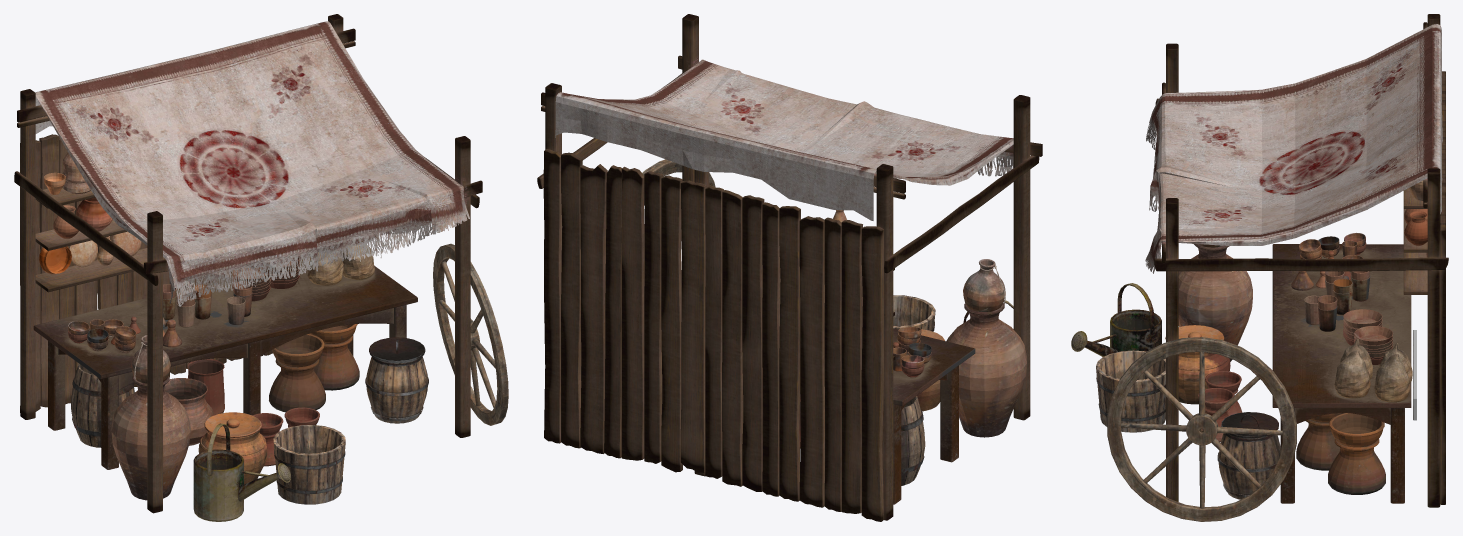
Rendered from Shop.fbx.
The picture shows the model from 3 angles, left to right: view 1: azimuth 30°, elevation 25°; view 2: azimuth 150°, elevation 25°; view 3: azimuth 270°, elevation 25°; orthographic projection. The views are drawn at different scales.
Parts seen in each view (by area): view 1: XI_FS_Shop.Shape; view 2: XI_FS_Shop.Shape; view 3: XI_FS_Shop.Shape.
Boxes of the visible parts, left/top/right/bottom form: XI_FS_Shop.Shape: left=14, top=14, right=508, bottom=521; XI_FS_Shop.Shape: left=537, top=14, right=1042, bottom=521; XI_FS_Shop.Shape: left=1071, top=14, right=1448, bottom=521.
Bounding box in the file's own units: 316 × 266 × 272.
2 materials, 2 textured.
